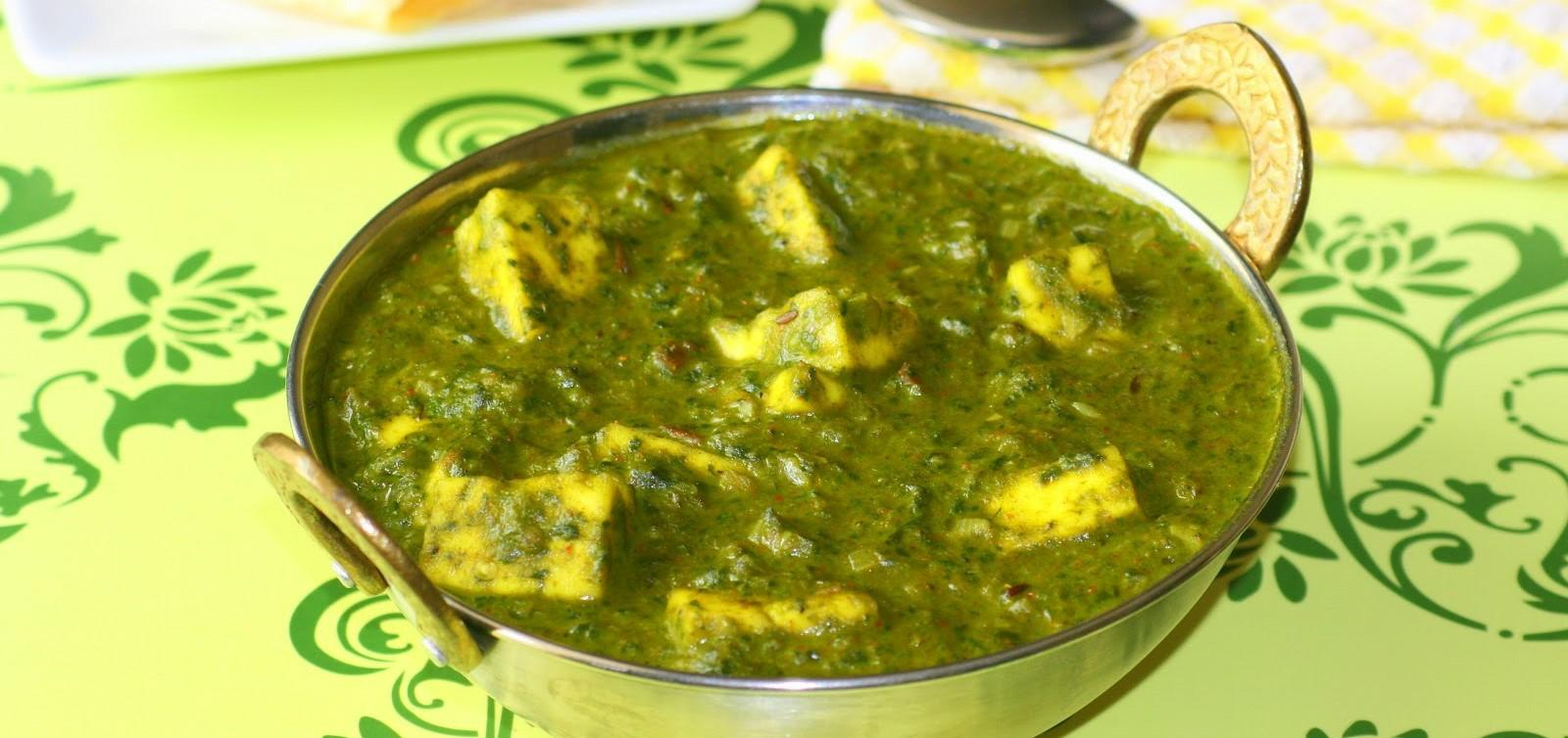PalakPaneer: (320, 114, 1298, 687)
